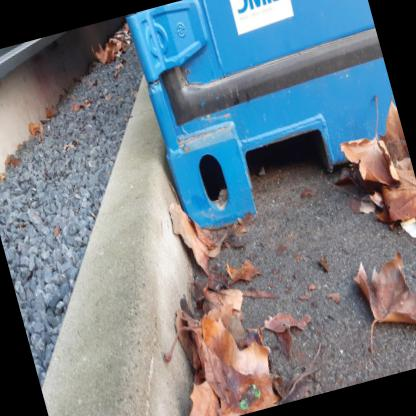CornerCasting: (157, 121, 262, 240)
